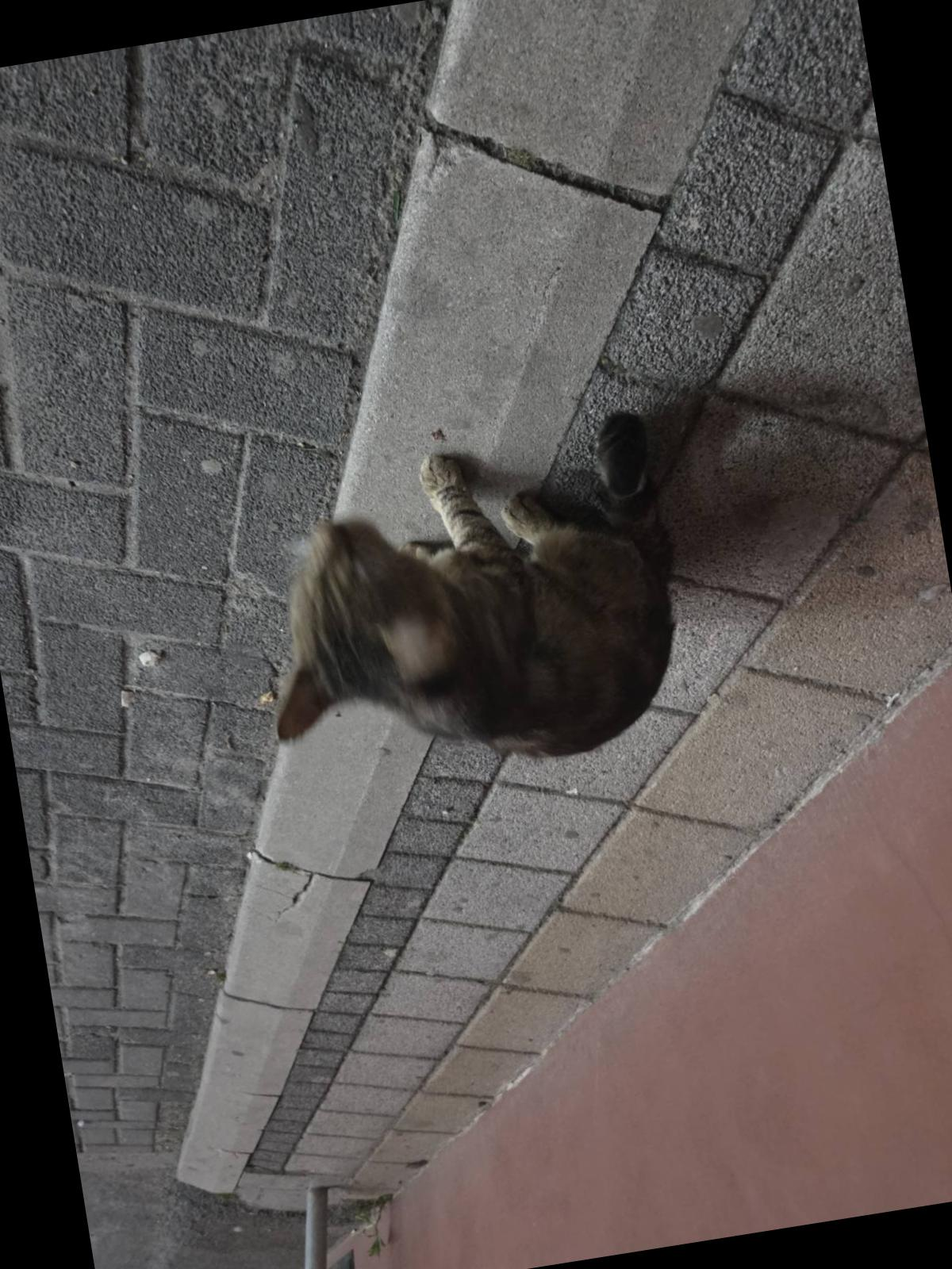macka: (236, 406, 703, 804)
